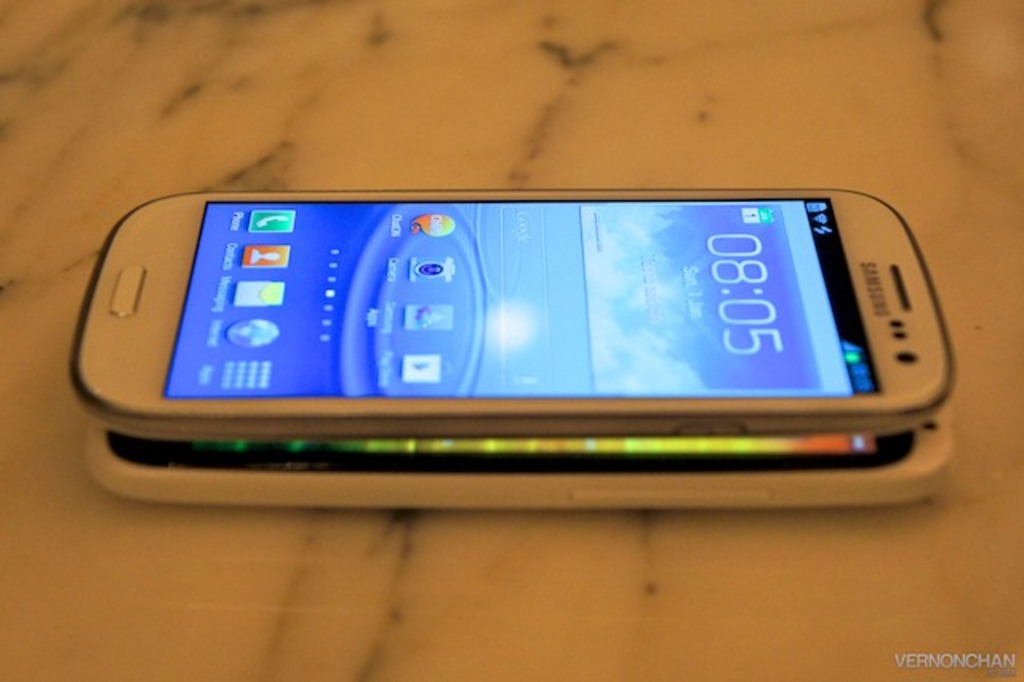Mobile-phone: (71, 185, 955, 503), (86, 410, 950, 506)
